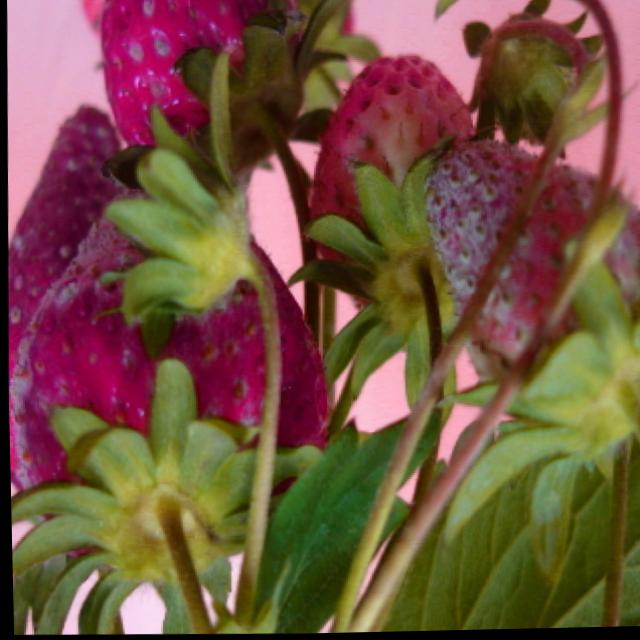Powdery Mildew Fruit: (7, 180, 266, 582), (419, 138, 640, 459), (6, 104, 125, 391), (96, 0, 286, 179)
